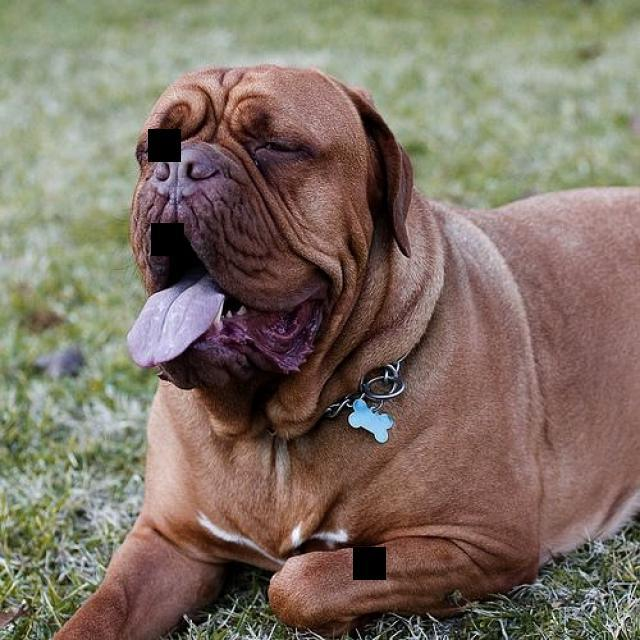adult_dog: (52, 64, 640, 640)
